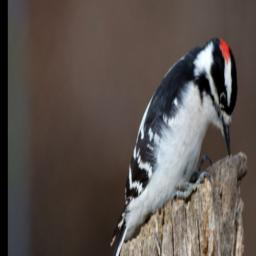Woodpecker: (98, 33, 239, 256)
